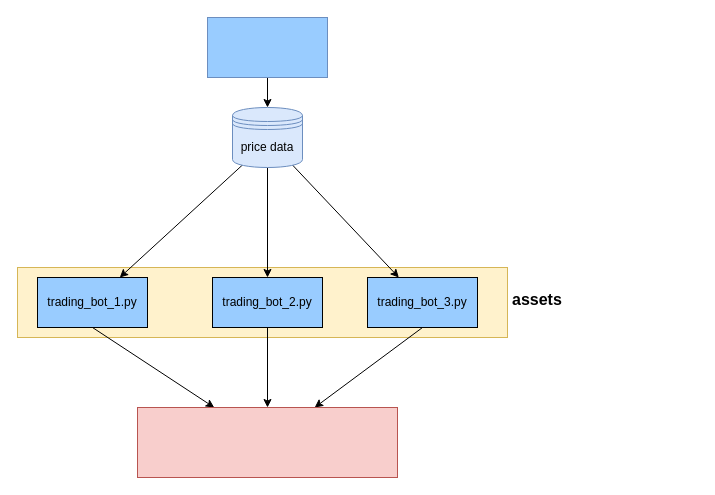
This 715x495 diagram has some shape labels left out. The shapes that lost their labels are listed below. From the top down, each one's box as (x1, y1, x2, y2) in pixels, then its label:
(206, 16, 328, 78): data_stream.py
(136, 406, 398, 478): interactive brokers.com
